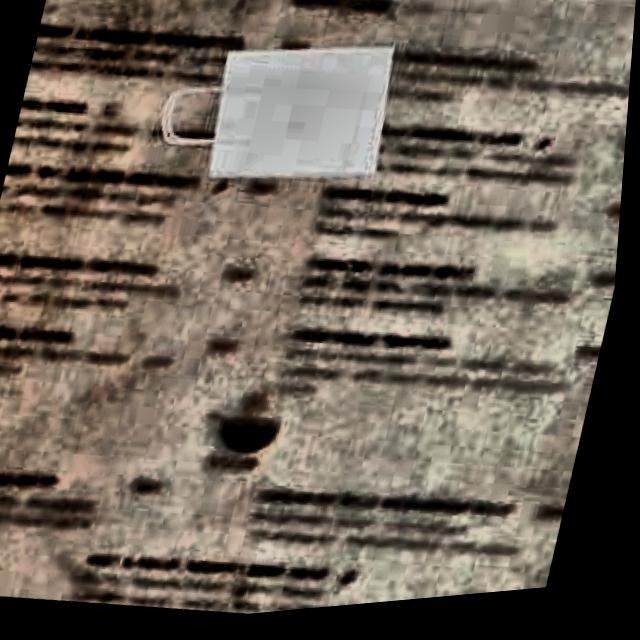Paper-bag: (130, 5, 447, 258)
